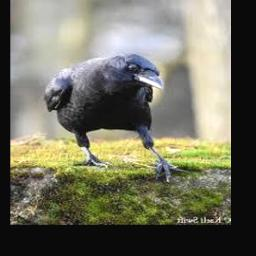Crow: (43, 54, 184, 182)
